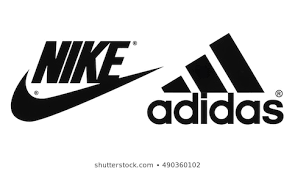nike: (9, 66, 166, 121)
